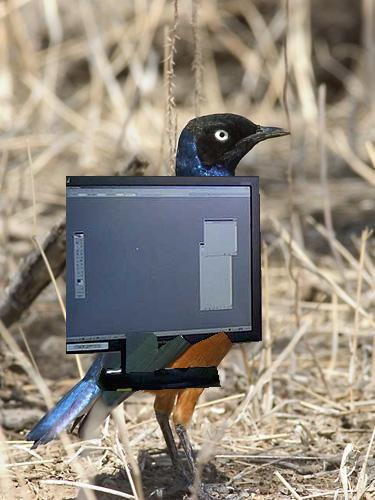tampered: (67, 177, 262, 391)
